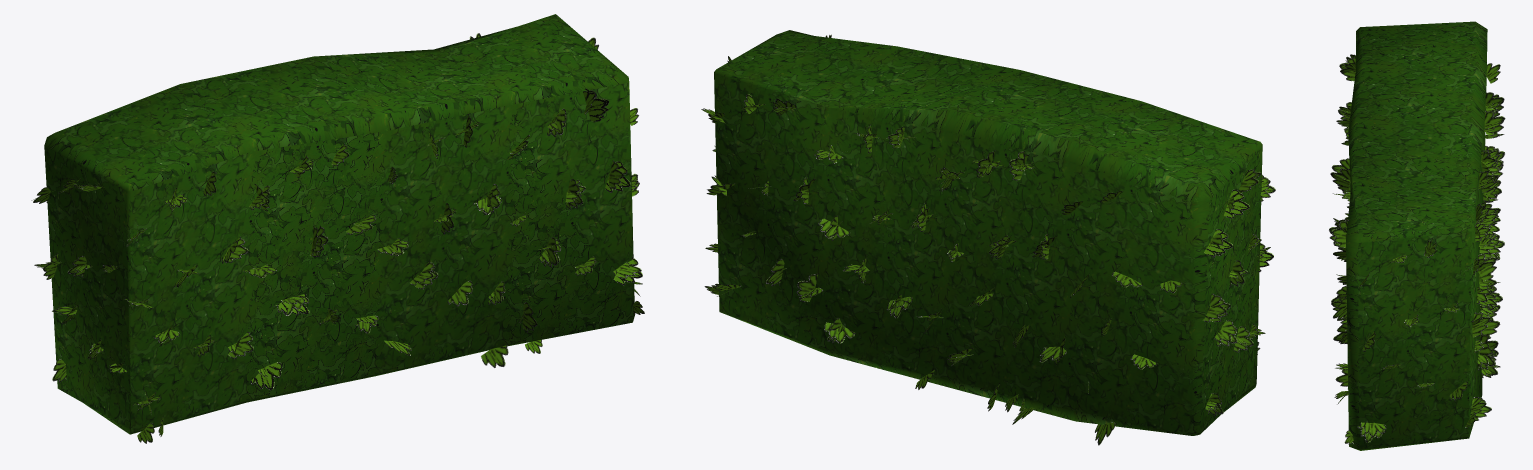
File: SM_Hedge_1.fbx
3 views of the same model, side by side, from view 1: azimuth 30°, elevation 25°; view 2: azimuth 150°, elevation 25°; view 3: azimuth 270°, elevation 25° (orthographic). The views are drawn at different scales.
Visible parts, largest first — view 1: Plane.249; view 2: Plane.249; view 3: Plane.249.
Part boxes in pixels (bbox=[...]): Plane.249: bbox=[31, 14, 644, 443]; Plane.249: bbox=[701, 30, 1275, 445]; Plane.249: bbox=[1329, 21, 1505, 450].
Size of the model in its own units: 901 by 465 by 328.
